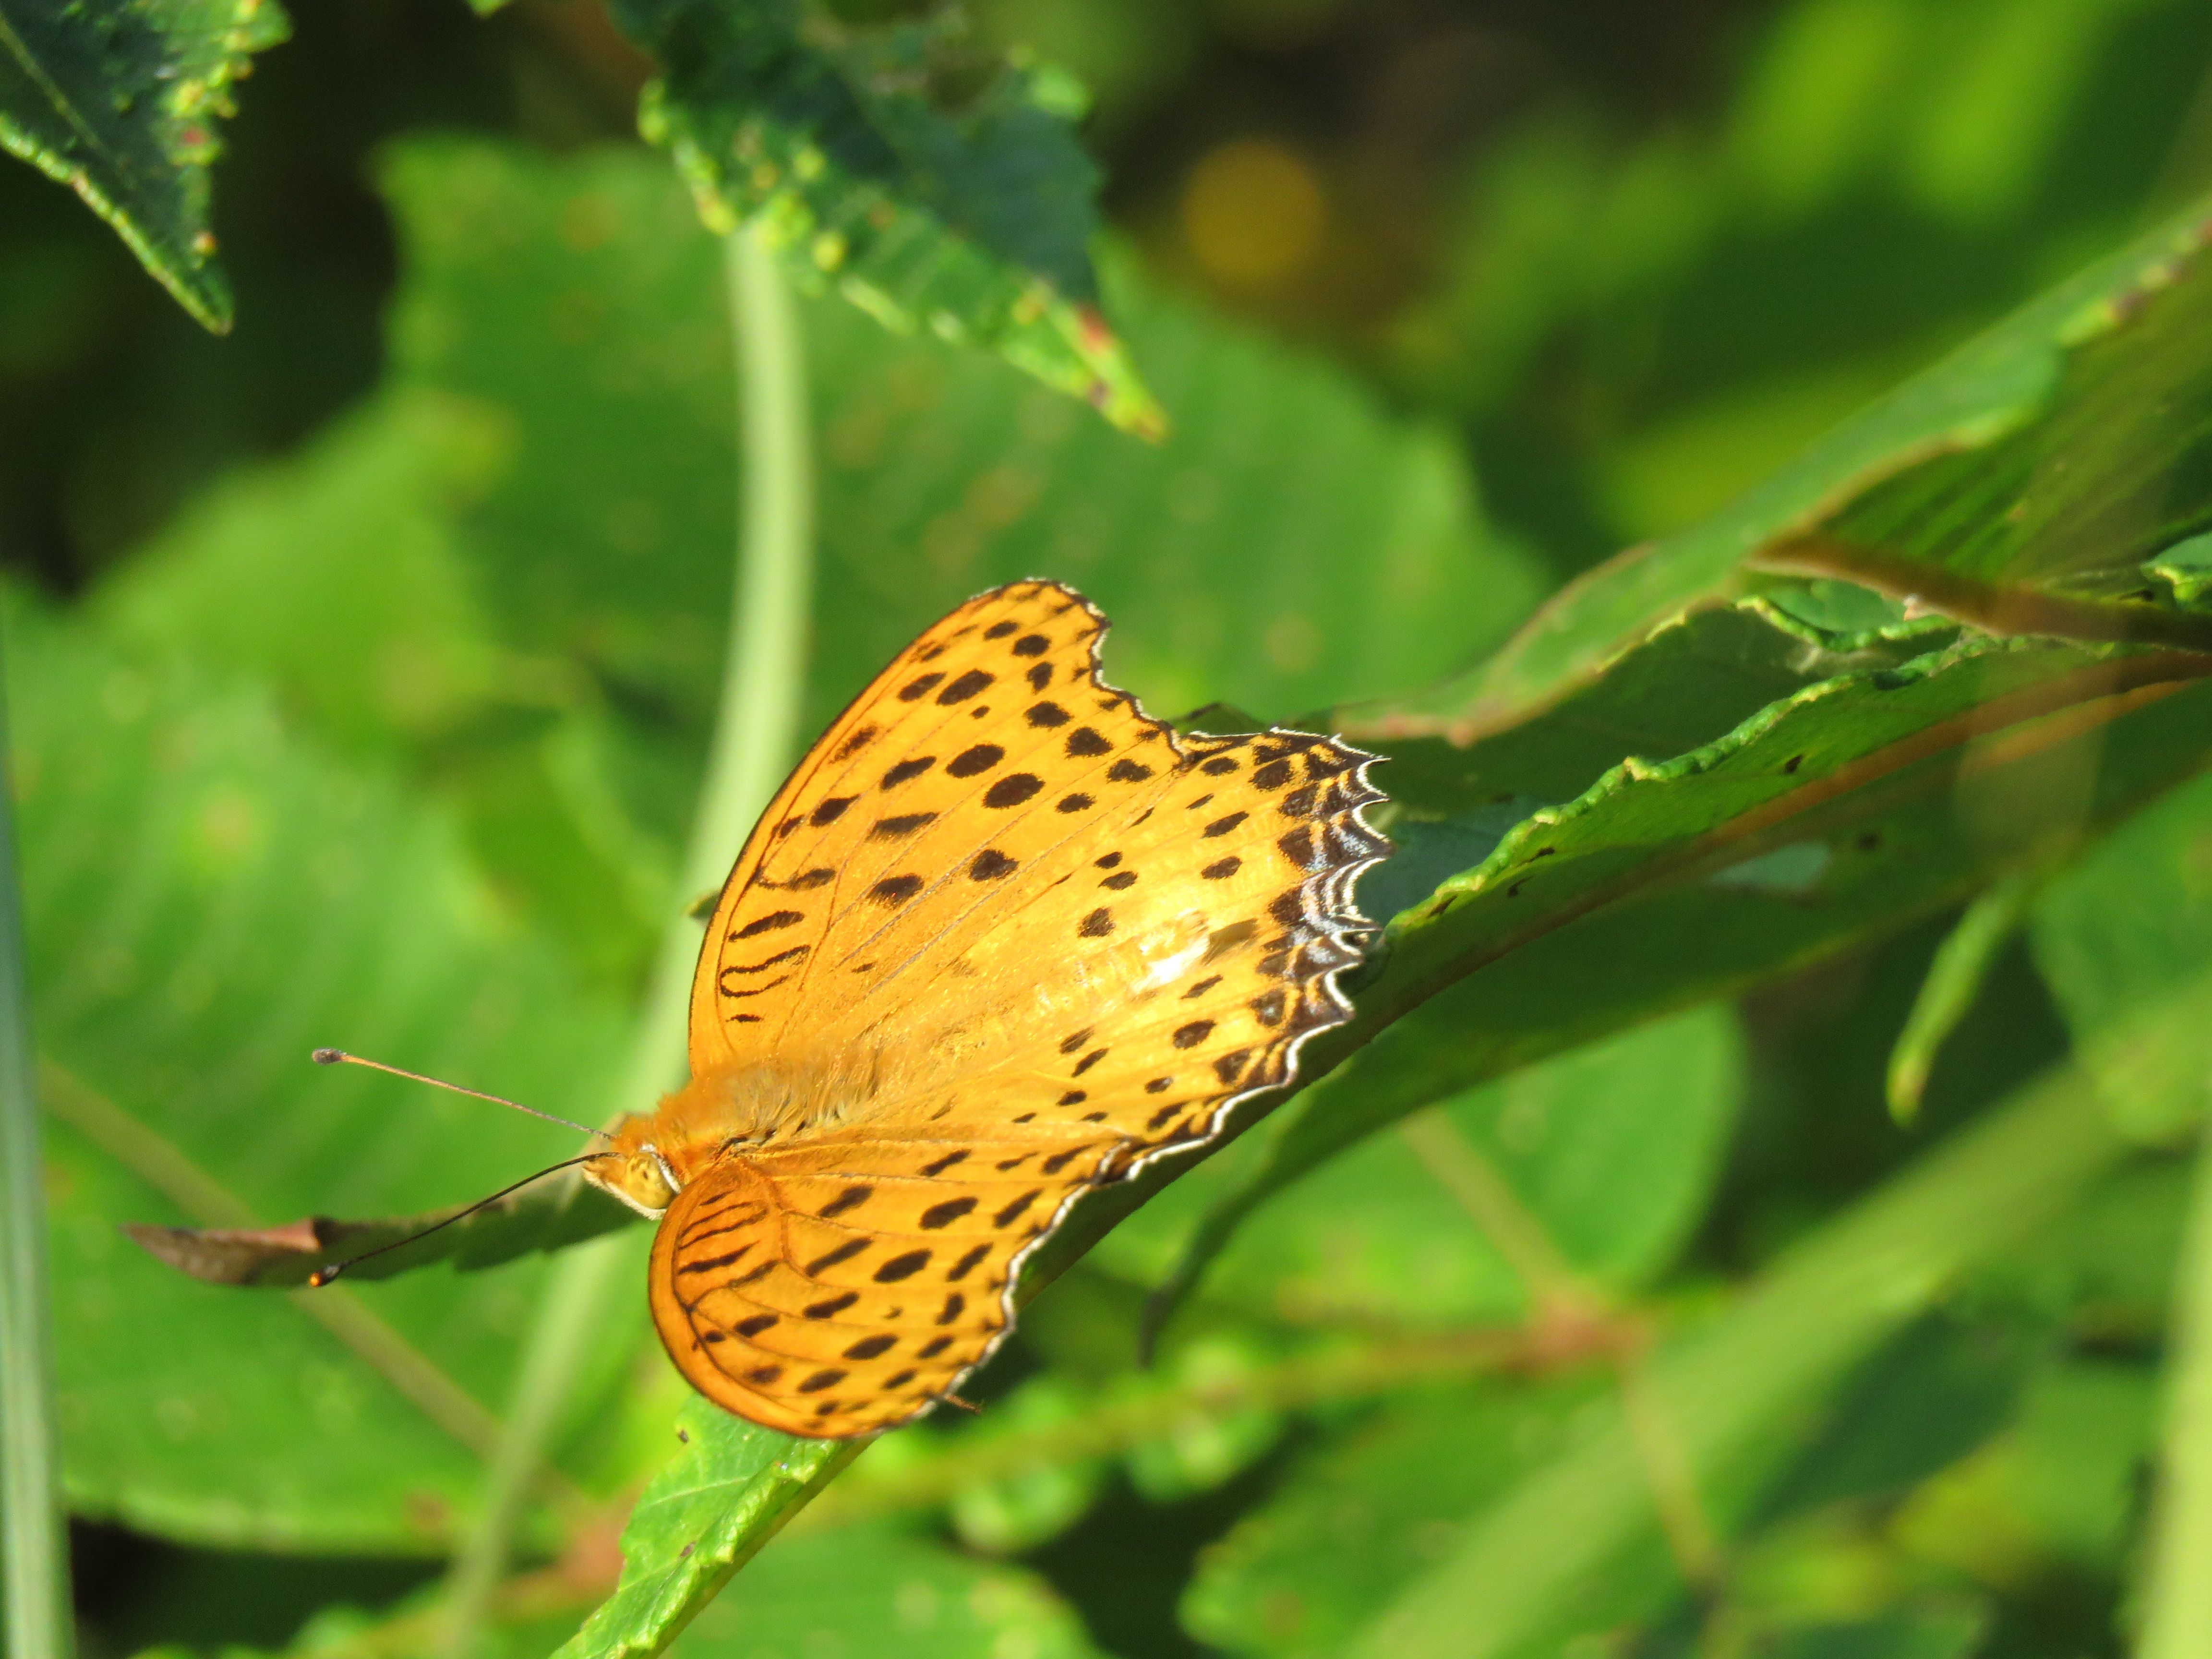Argyreus hyperbius: (291, 570, 1418, 1464)
butterfly: (291, 570, 1420, 1466)
